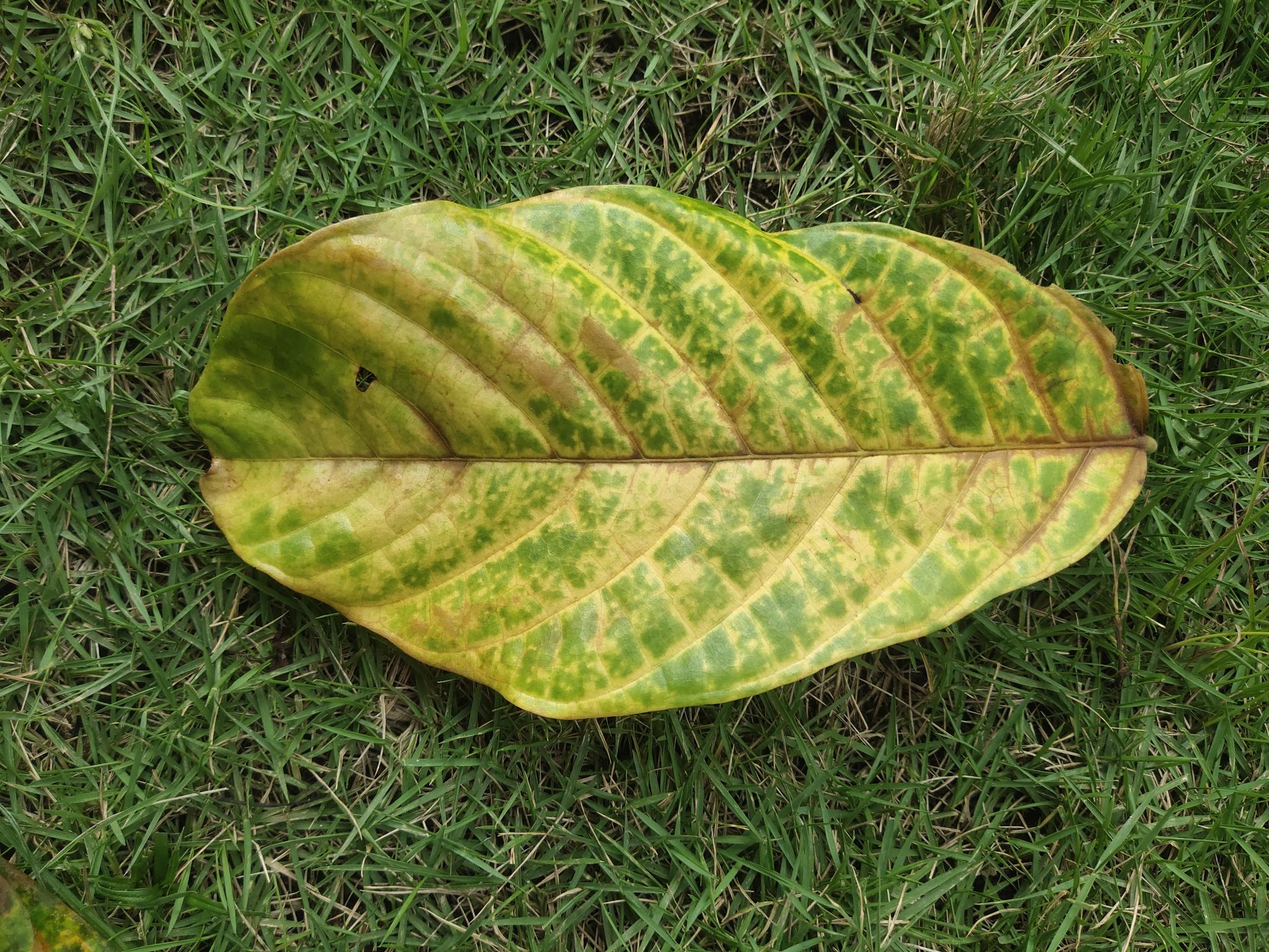Fosforo: (178, 183, 1180, 727)
